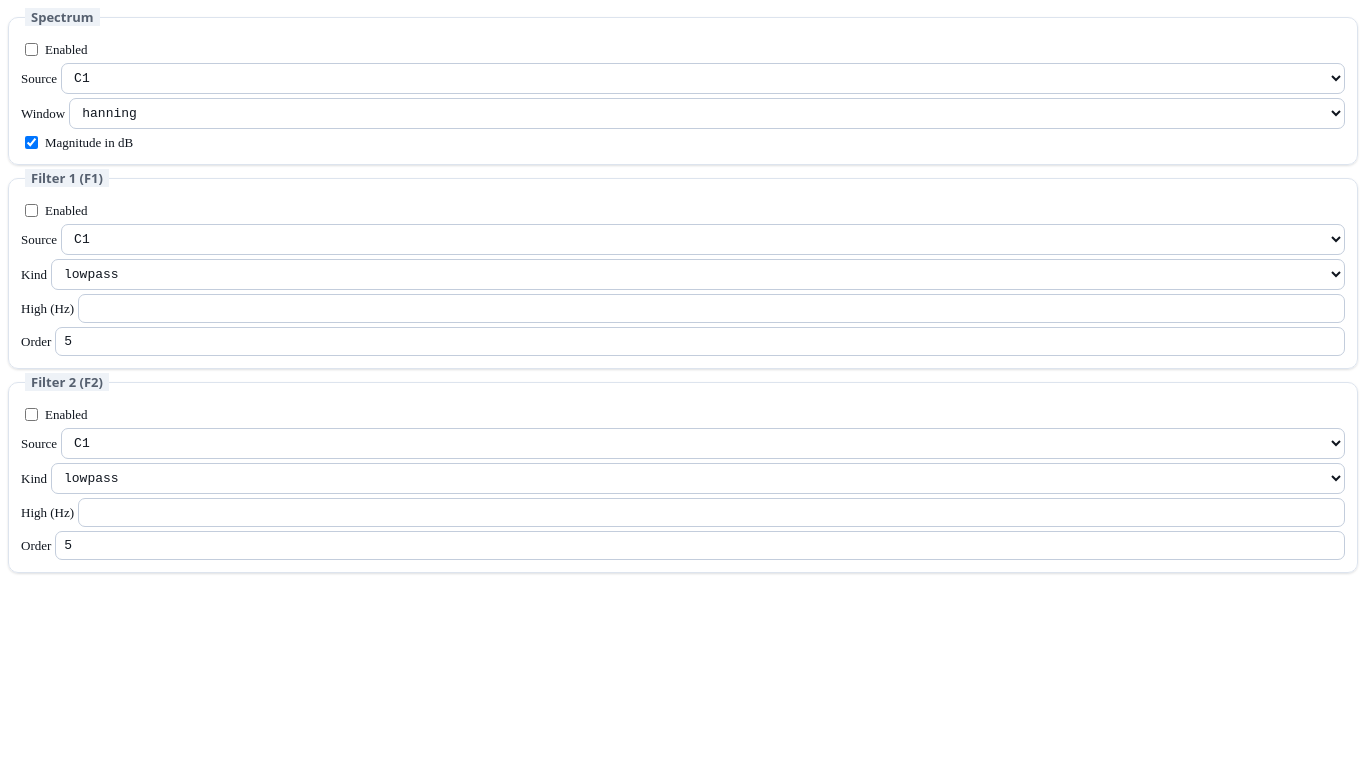
Test: AnalysisPanel › surfaces a PATCH error
The width and height of the screenshot is (1366, 768).
Click the checkbox named "Enable filter 1" at (32, 210), box [25, 204, 38, 217]
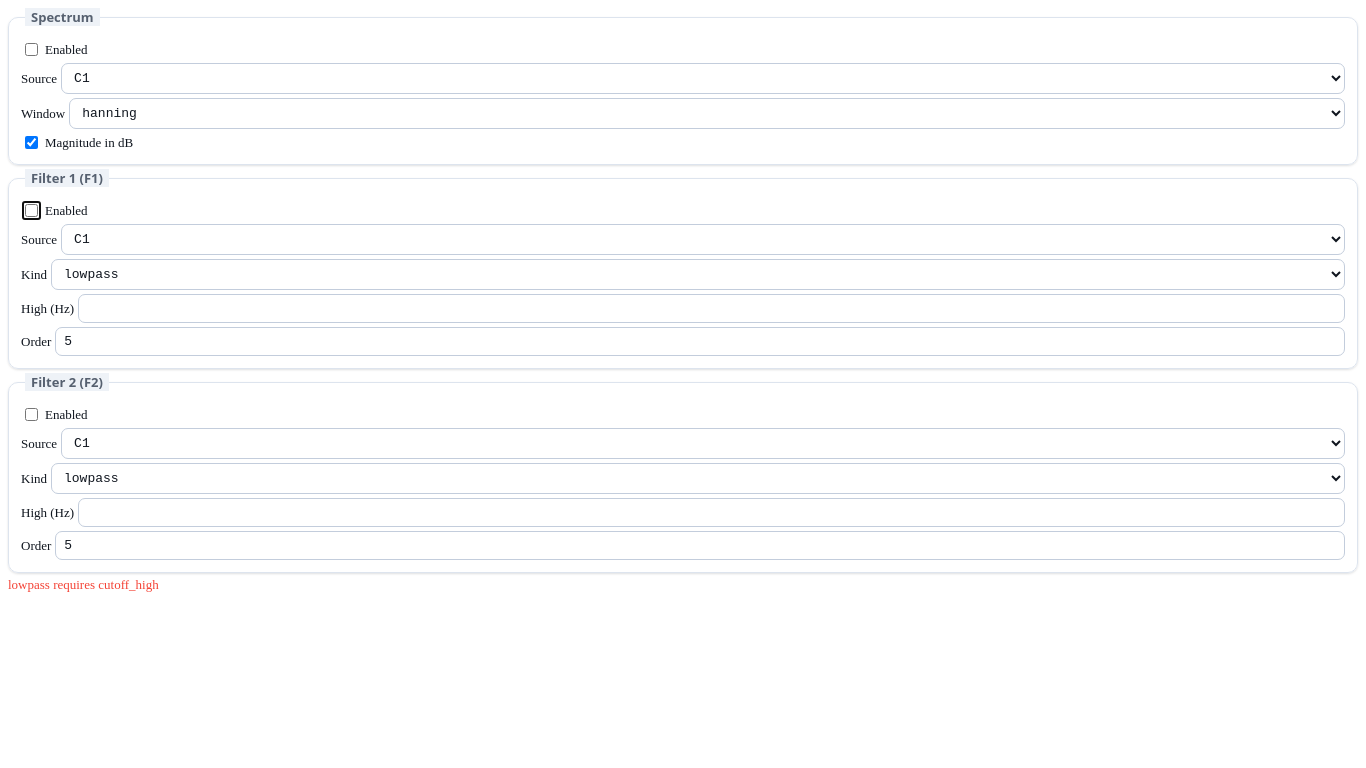
Result: the message reads "lowpass requires cutoff_high" at [8, 577, 159, 592]
